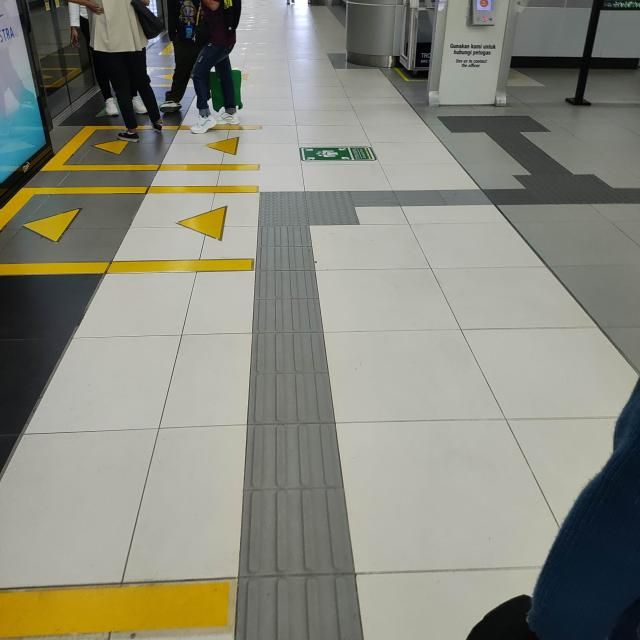kanan: (234, 166, 434, 251)
